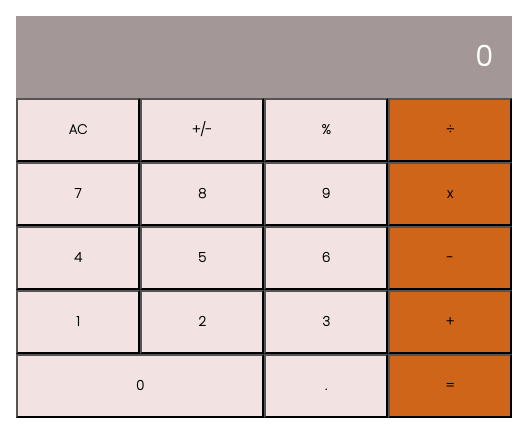
Test: User interaction › simulate right answer
Click the button "4" at (78, 258), box x1=16 y1=226 x2=140 y2=290
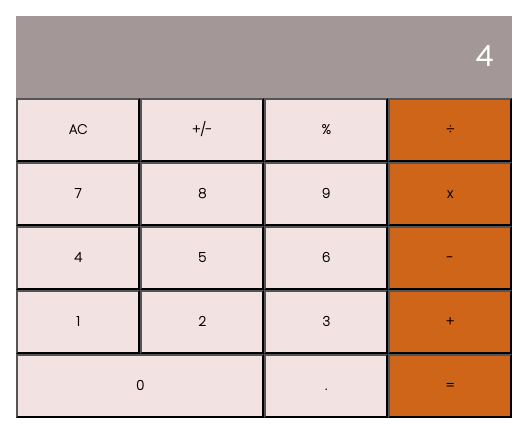
Click the button "+" at (450, 322), box x1=388 y1=290 x2=512 y2=354
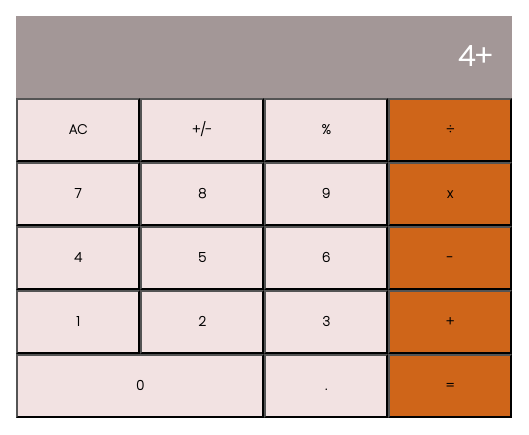
Click the button "7" at (78, 194), box x1=16 y1=162 x2=140 y2=226
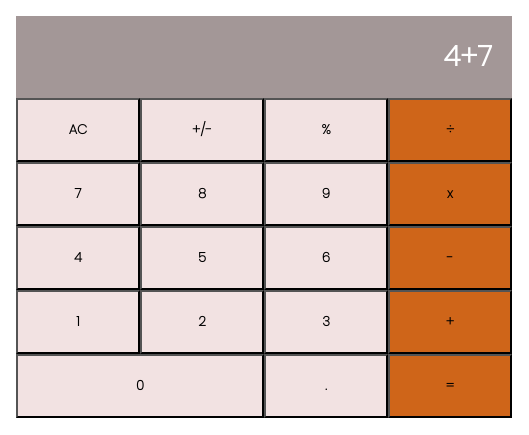
Click the button "=" at (450, 386), box x1=388 y1=354 x2=512 y2=418
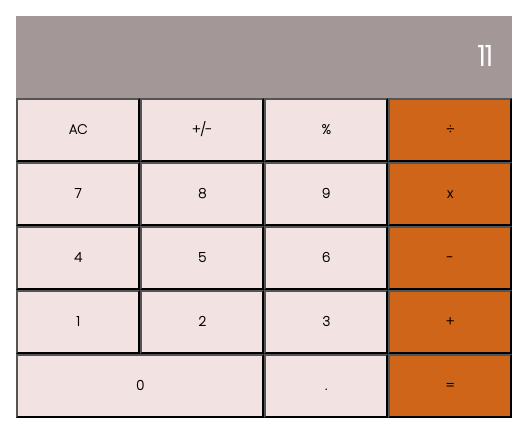
Result: the text "11" is shown at x1=16 y1=16 x2=512 y2=98
